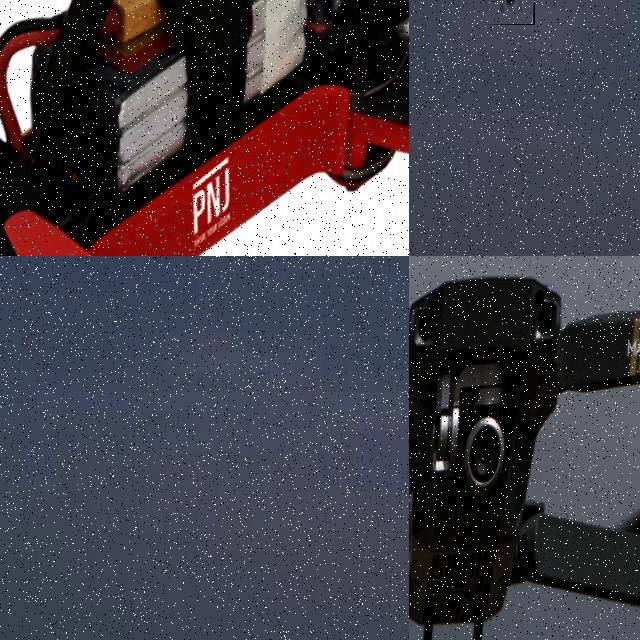drone: (0, 0, 409, 256), (409, 256, 640, 640), (483, 0, 535, 25)
